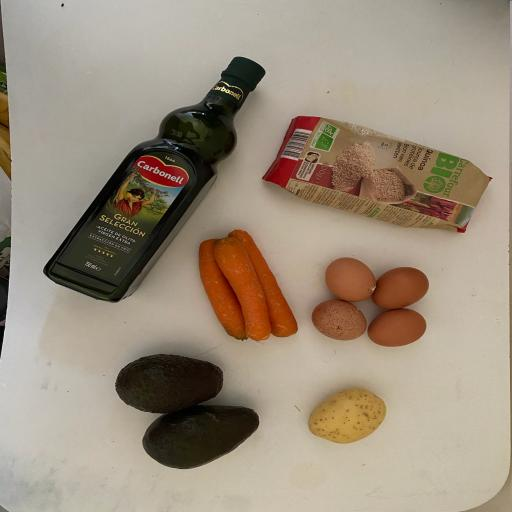avocado: (139, 401, 261, 472), (116, 352, 225, 416)
carrot: (226, 228, 300, 340), (209, 233, 274, 346), (194, 236, 250, 343)
egg: (370, 262, 433, 312), (321, 254, 380, 305), (309, 297, 370, 345), (366, 307, 431, 349)
olive_oil: (36, 50, 272, 306)
potato: (302, 384, 391, 448)
quinoa: (261, 113, 493, 237)
